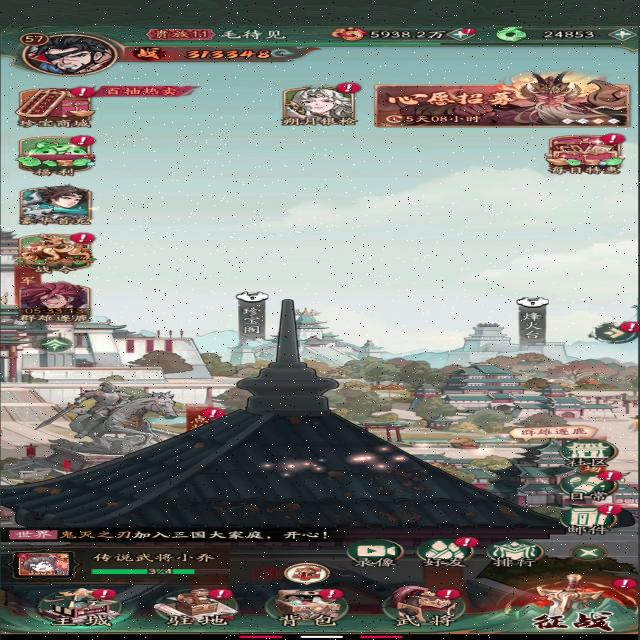hint-reddot: (203, 585, 238, 603), (192, 404, 230, 420), (65, 230, 103, 244), (600, 132, 632, 148), (329, 78, 360, 94), (67, 83, 96, 100), (431, 588, 465, 602), (89, 587, 122, 601), (592, 502, 622, 517), (608, 575, 636, 591), (618, 318, 640, 338), (594, 468, 625, 482), (452, 535, 480, 549), (317, 588, 344, 602), (68, 133, 94, 147), (456, 24, 480, 36)
navigation-DailyDiscount: (530, 131, 626, 179)
navigation-bag: (264, 585, 355, 630)
navigation-community: (551, 435, 623, 469)
navigation-dailyTask: (554, 466, 624, 504)
navigation-fenghuotai-off: (508, 291, 554, 347)
navigation-fight: (499, 572, 638, 638)
navigation-friends: (407, 535, 486, 569)
navigation-hero: (375, 581, 486, 632)
navigation-mail: (554, 504, 624, 536)
navigation-main: (27, 586, 131, 627)
navigation-rank: (480, 536, 553, 570)
navigation-role: (5, 23, 150, 79)
navigation-station-on: (144, 583, 253, 631)
navigation-treasureMall: (7, 83, 102, 132)
navigation-welfare: (6, 133, 104, 181)
navigation-zhenbaoge-off: (231, 287, 278, 340)
operation-close: (570, 544, 608, 563)
